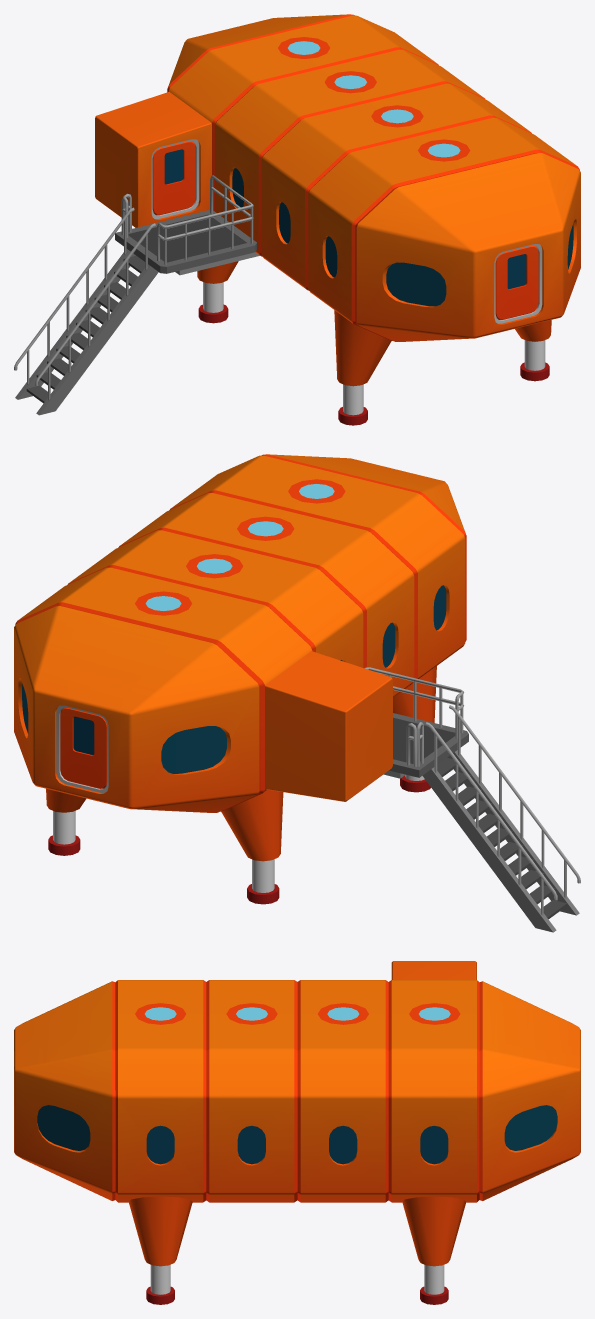
Rendered from arctic_base_002.fbx.
3 renders of one model, top to bottom at view 1: azimuth 30°, elevation 25°; view 2: azimuth 150°, elevation 25°; view 3: azimuth 270°, elevation 25°, orthographic. The views are drawn at different scales.
Visible parts, largest first — view 1: arctic_base_002; view 2: arctic_base_002; view 3: arctic_base_002.
Boxes of the visible parts, left/top/right/bottom form: arctic_base_002: left=14, top=14, right=580, bottom=425; arctic_base_002: left=14, top=454, right=580, bottom=932; arctic_base_002: left=14, top=961, right=580, bottom=1304.
Bounding box in the file's own units: 1566 × 1789 × 840.
